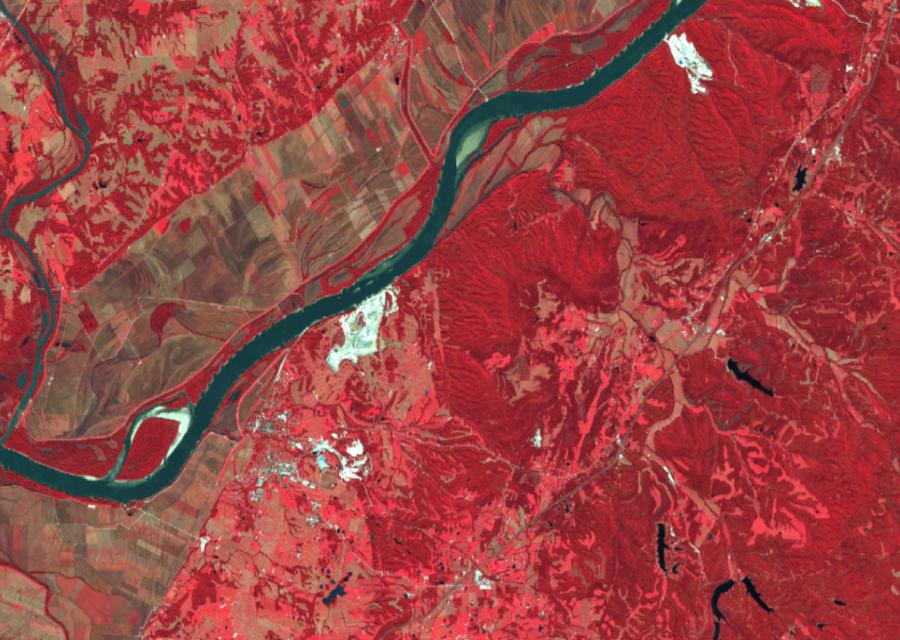Potential Lime Manufacturing Facility: (323, 288, 397, 372)
